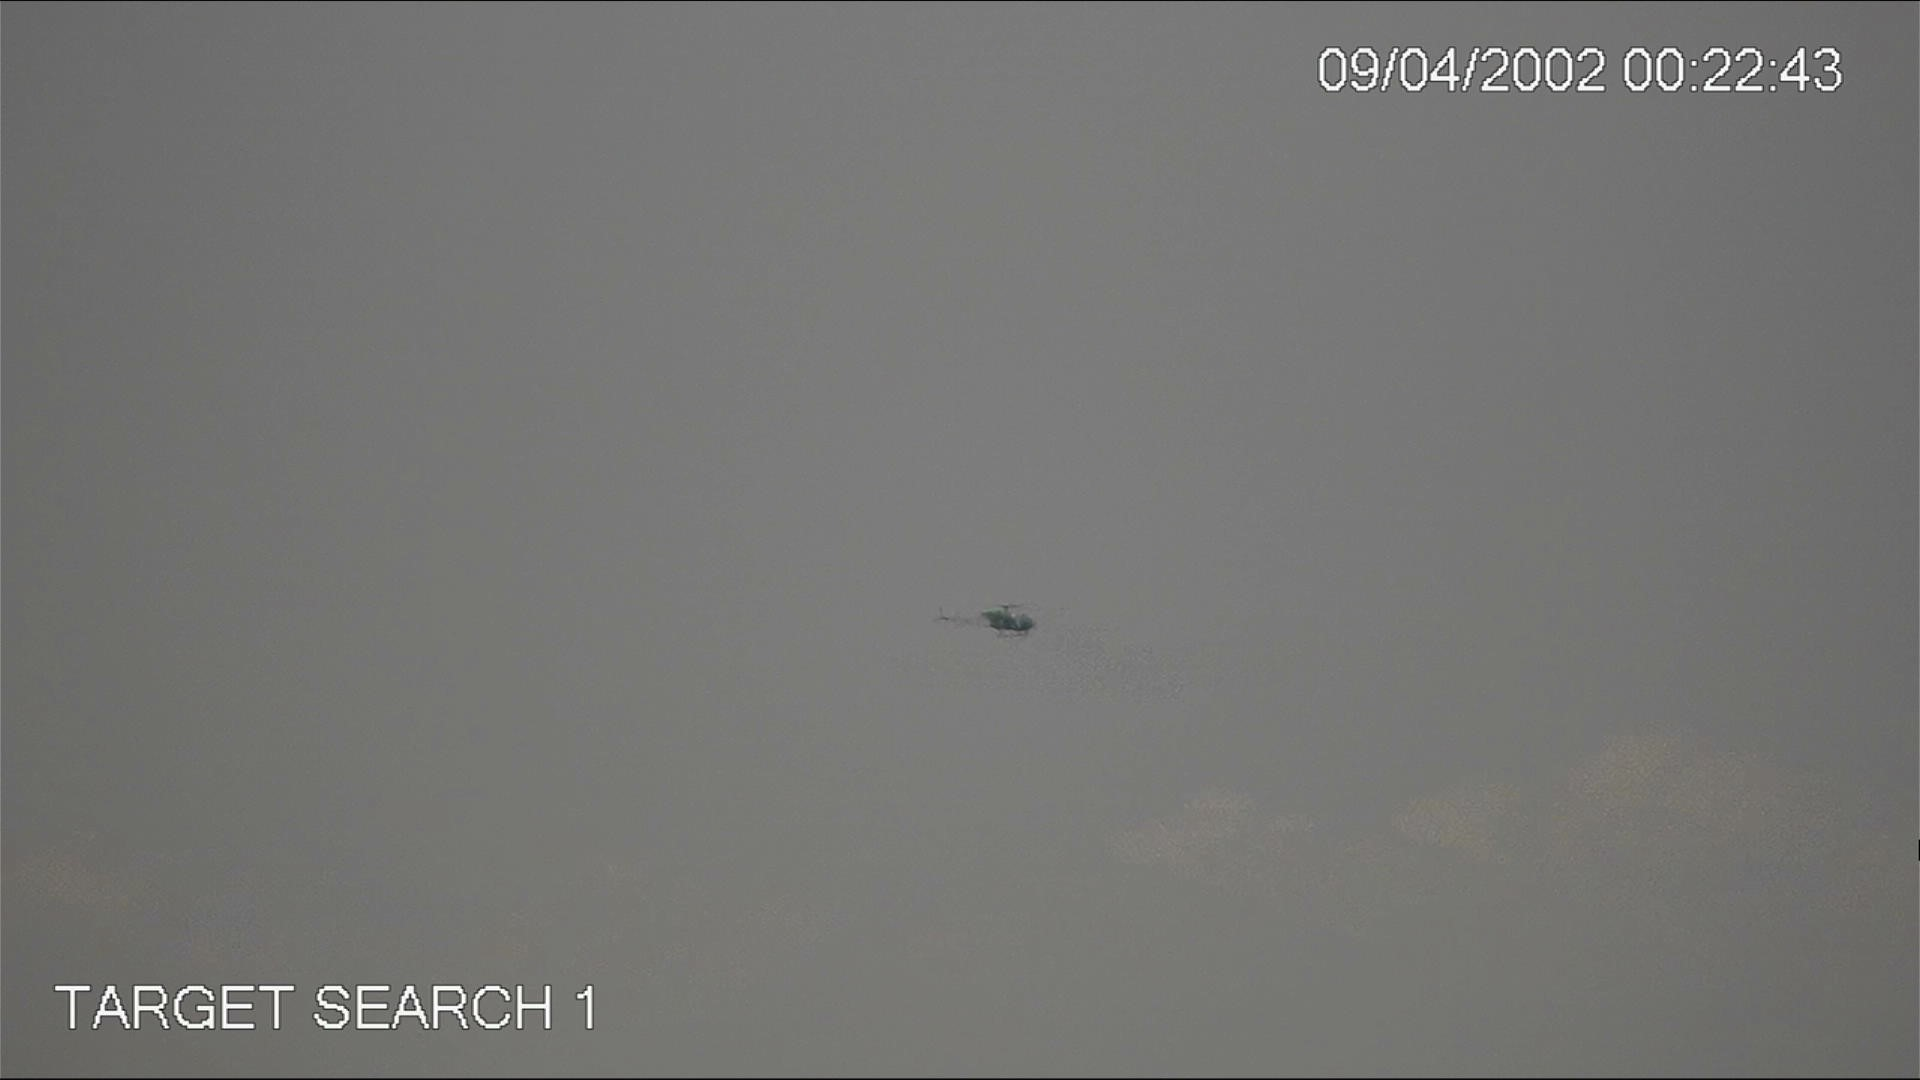SU_30: (927, 591, 1036, 644)
